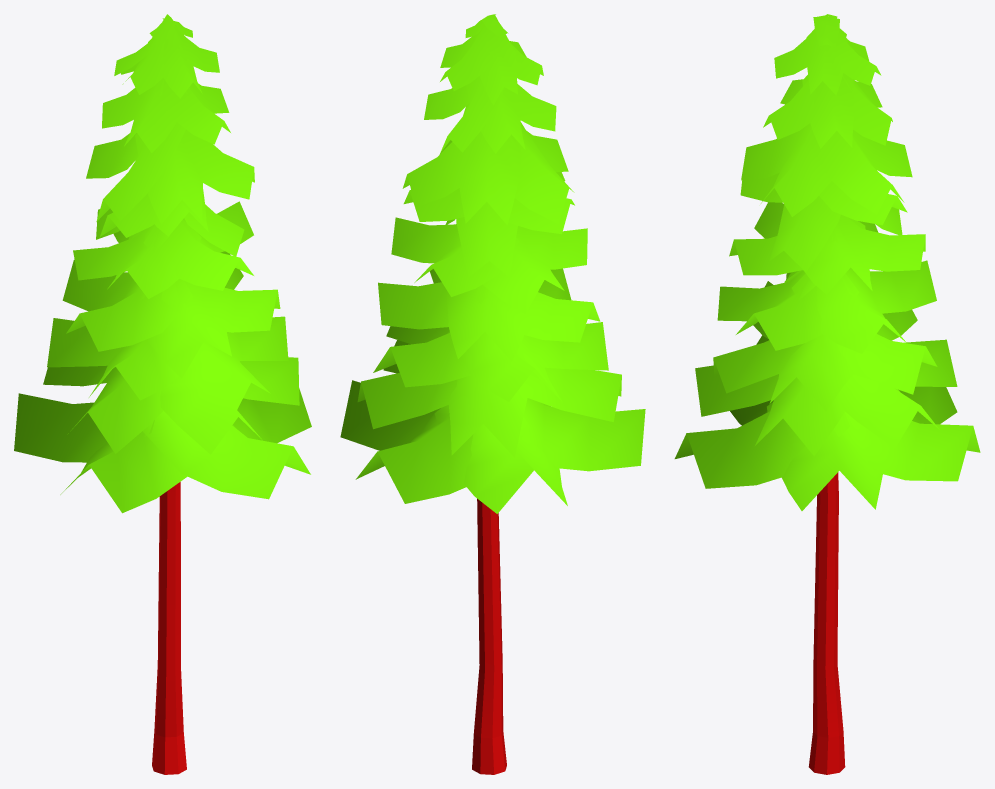
File: SM_Tree_Pine_Large_02.glb
3 views of the same model, side by side, from view 1: azimuth 30°, elevation 25°; view 2: azimuth 150°, elevation 25°; view 3: azimuth 270°, elevation 25° (orthographic).
Visible parts, largest first — view 1: SM_Tree_Pine_Large_02; view 2: SM_Tree_Pine_Large_02; view 3: SM_Tree_Pine_Large_02.
Part boxes in pixels (x1=…): SM_Tree_Pine_Large_02: x1=14, y1=14, x2=311, y2=774; SM_Tree_Pine_Large_02: x1=340, y1=14, x2=645, y2=774; SM_Tree_Pine_Large_02: x1=674, y1=14, x2=980, y2=774.
Bounding box in the file's own units: 3.14 × 8.59 × 3.17.
